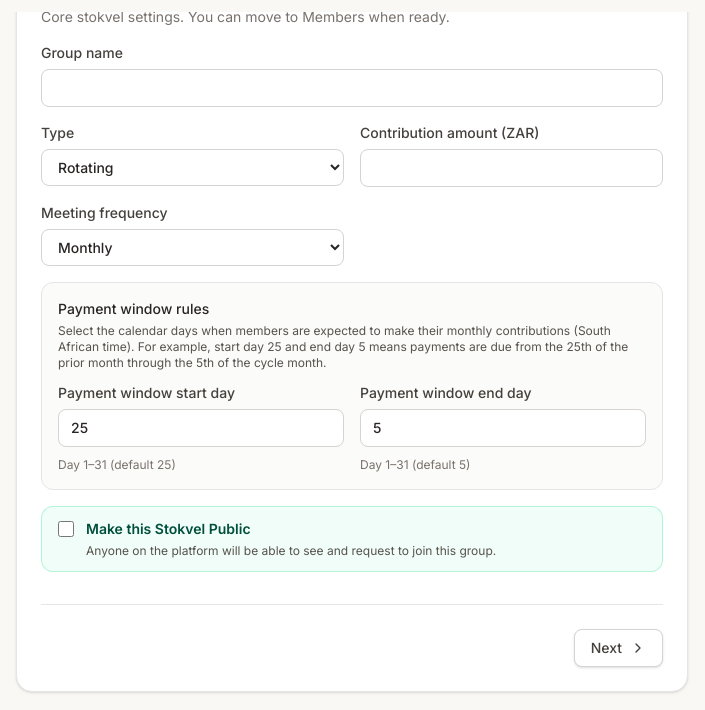
Scenario: CreateStokvelWizard › Fixed stokvel UI toggles › shows payout order controls for Rotating type
(page scrolled)
What coordinates should you click on to do the following:
click the button "Next"
I would click on:
 (618, 648)
Its box is [574, 629, 663, 667].
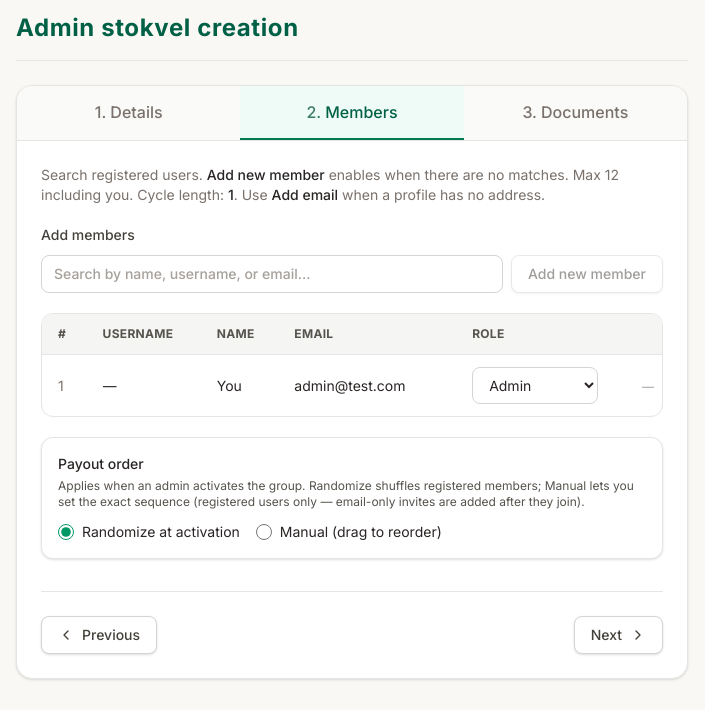
Result: the text "Payout order" is shown at [58, 455, 144, 472]
Result: the radio button labelled "Randomize at activation" is shown at [58, 524, 74, 540]
